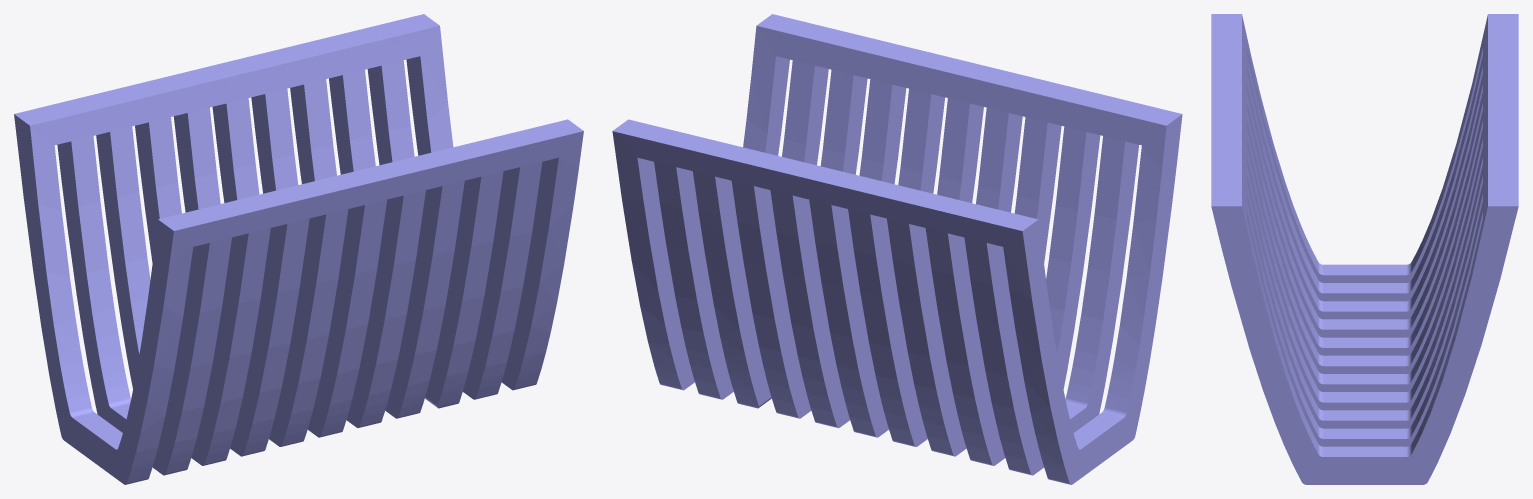
The picture shows the model from 3 angles, left to right: view 1: azimuth 30°, elevation 25°; view 2: azimuth 150°, elevation 25°; view 3: azimuth 270°, elevation 25°; orthographic projection. The views are drawn at different scales.
Bounding box in the file's own units: 74 × 50 × 50.
